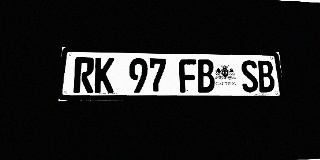7: (148, 58, 167, 93)
9: (129, 58, 148, 93)
B: (197, 59, 215, 93), (257, 60, 275, 92)
F: (179, 59, 197, 93)
K: (94, 57, 114, 93)
R: (73, 57, 95, 93)
S: (240, 60, 259, 92)
